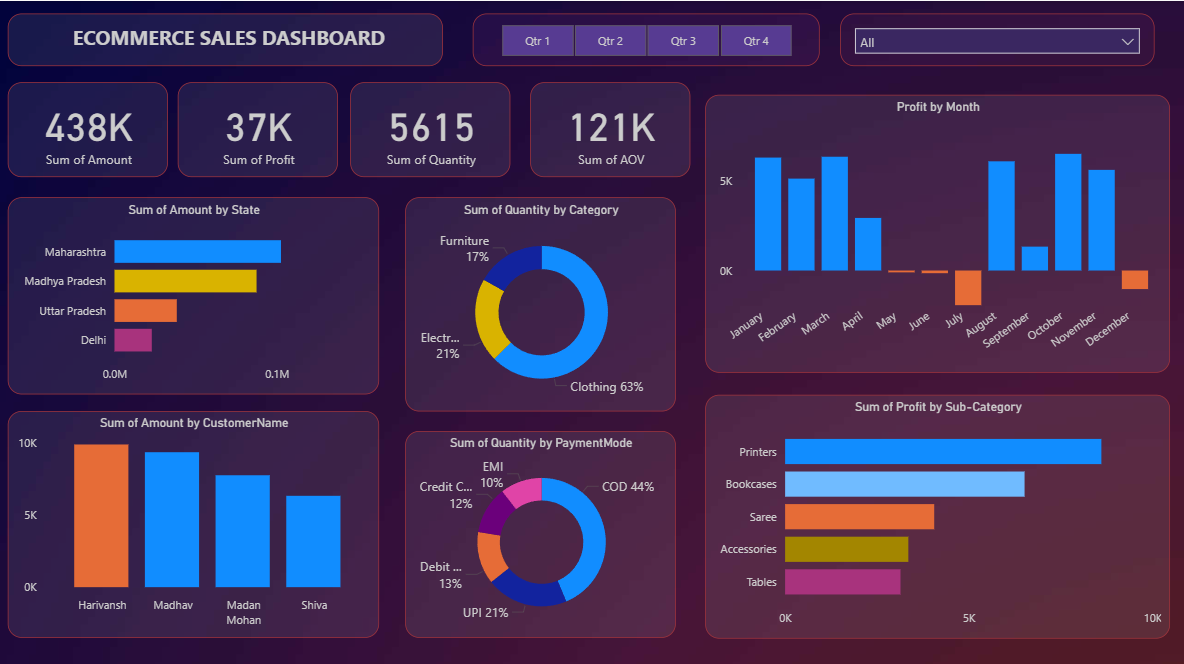

What the dashboard file says about the page in this screenshot:
{"tool":"powerbi","page":{"name":"Page 1","canvas":[1280,720],"ordinal":0},"visuals":[{"type":"textbox","box":[10.1,13.4,469.7,57],"z":0},{"type":"columnChart","title":"Profit by Month","fields":{"Category":["Orders.Order Date.Variation.Date Hierarchy.Month"],"Y":["Details.Profit"]},"box":[761.6,100.7,501.6,300.3],"z":1000},{"type":"barChart","fields":{"Category":["Details.Sub-Category"],"Y":["Details.Profit"]},"box":[761.6,424.4,501.6,263.4],"z":2000},{"type":"donutChart","fields":{"Category":["Details.Category"],"Y":["Details.Quantity"]},"box":[437.9,211.4,291.9,231.5],"z":3000},{"type":"donutChart","fields":{"Y":["Details.Quantity"],"Category":["Details.PaymentMode"]},"box":[437.9,464.7,291.9,223.1],"z":4000},{"type":"card","fields":{"Values":["Details.Amount"]},"box":[10.1,87.2,172.8,102.3],"z":5000},{"type":"card","fields":{"Values":["Details.Profit"]},"box":[192.9,87.2,172.8,102.3],"z":6000},{"type":"card","fields":{"Values":["Details.Quantity"]},"box":[379.1,87.2,172.8,102.3],"z":7000},{"type":"card","fields":{"Values":["Details.AOV"]},"box":[573.7,87.2,172.8,102.3],"z":8000},{"type":"barChart","fields":{"Category":["Orders.State"],"Y":["Details.Amount"]},"box":[10.1,211.4,400.9,213.1],"z":9000},{"type":"columnChart","fields":{"Category":["Orders.CustomerName"],"Y":["Details.Amount"]},"box":[10.1,442.9,400.9,244.9],"z":10000},{"type":"slicer","fields":{"Values":["Orders.Order Date.Variation.Date Hierarchy.Quarter"]},"box":[511.7,13.4,374.1,57],"z":11000},{"type":"slicer","fields":{"Values":["Orders.State"]},"box":[907.6,13.4,338.9,57],"z":12000}]}

Visuals, with their boxes in screenshot pixels (x1, y1, x2, y2), scaled from the page's 1280x720 canvas onto the 1184x664 screenshot:
textbox: locate(9, 12, 444, 65)
"Profit by Month" columnChart: locate(704, 93, 1168, 370)
barChart - Details.Sub-Category x Details.Profit: locate(704, 391, 1168, 634)
donutChart - Details.Category x Details.Quantity: locate(405, 195, 675, 408)
donutChart - Details.Quantity x Details.PaymentMode: locate(405, 429, 675, 634)
card - Details.Amount: locate(9, 80, 169, 175)
card - Details.Profit: locate(178, 80, 338, 175)
card - Details.Quantity: locate(351, 80, 511, 175)
card - Details.AOV: locate(531, 80, 691, 175)
barChart - Orders.State x Details.Amount: locate(9, 195, 380, 391)
columnChart - Orders.CustomerName x Details.Amount: locate(9, 408, 380, 634)
slicer - Orders.Order Date.Variation.Date Hierarchy.Quarter: locate(473, 12, 819, 65)
slicer - Orders.State: locate(840, 12, 1153, 65)
